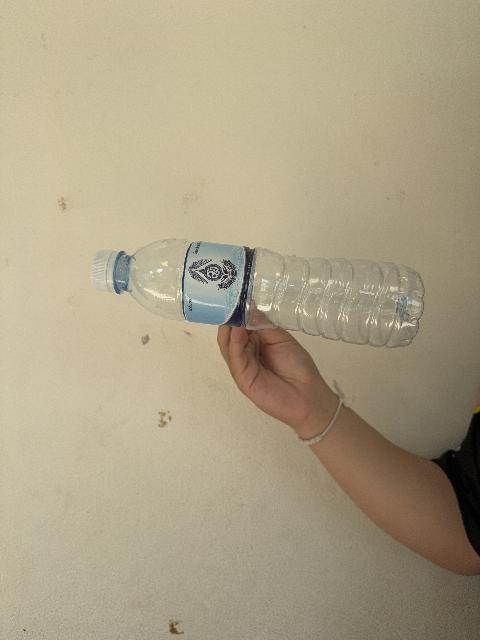bottle: (92, 240, 423, 346)
